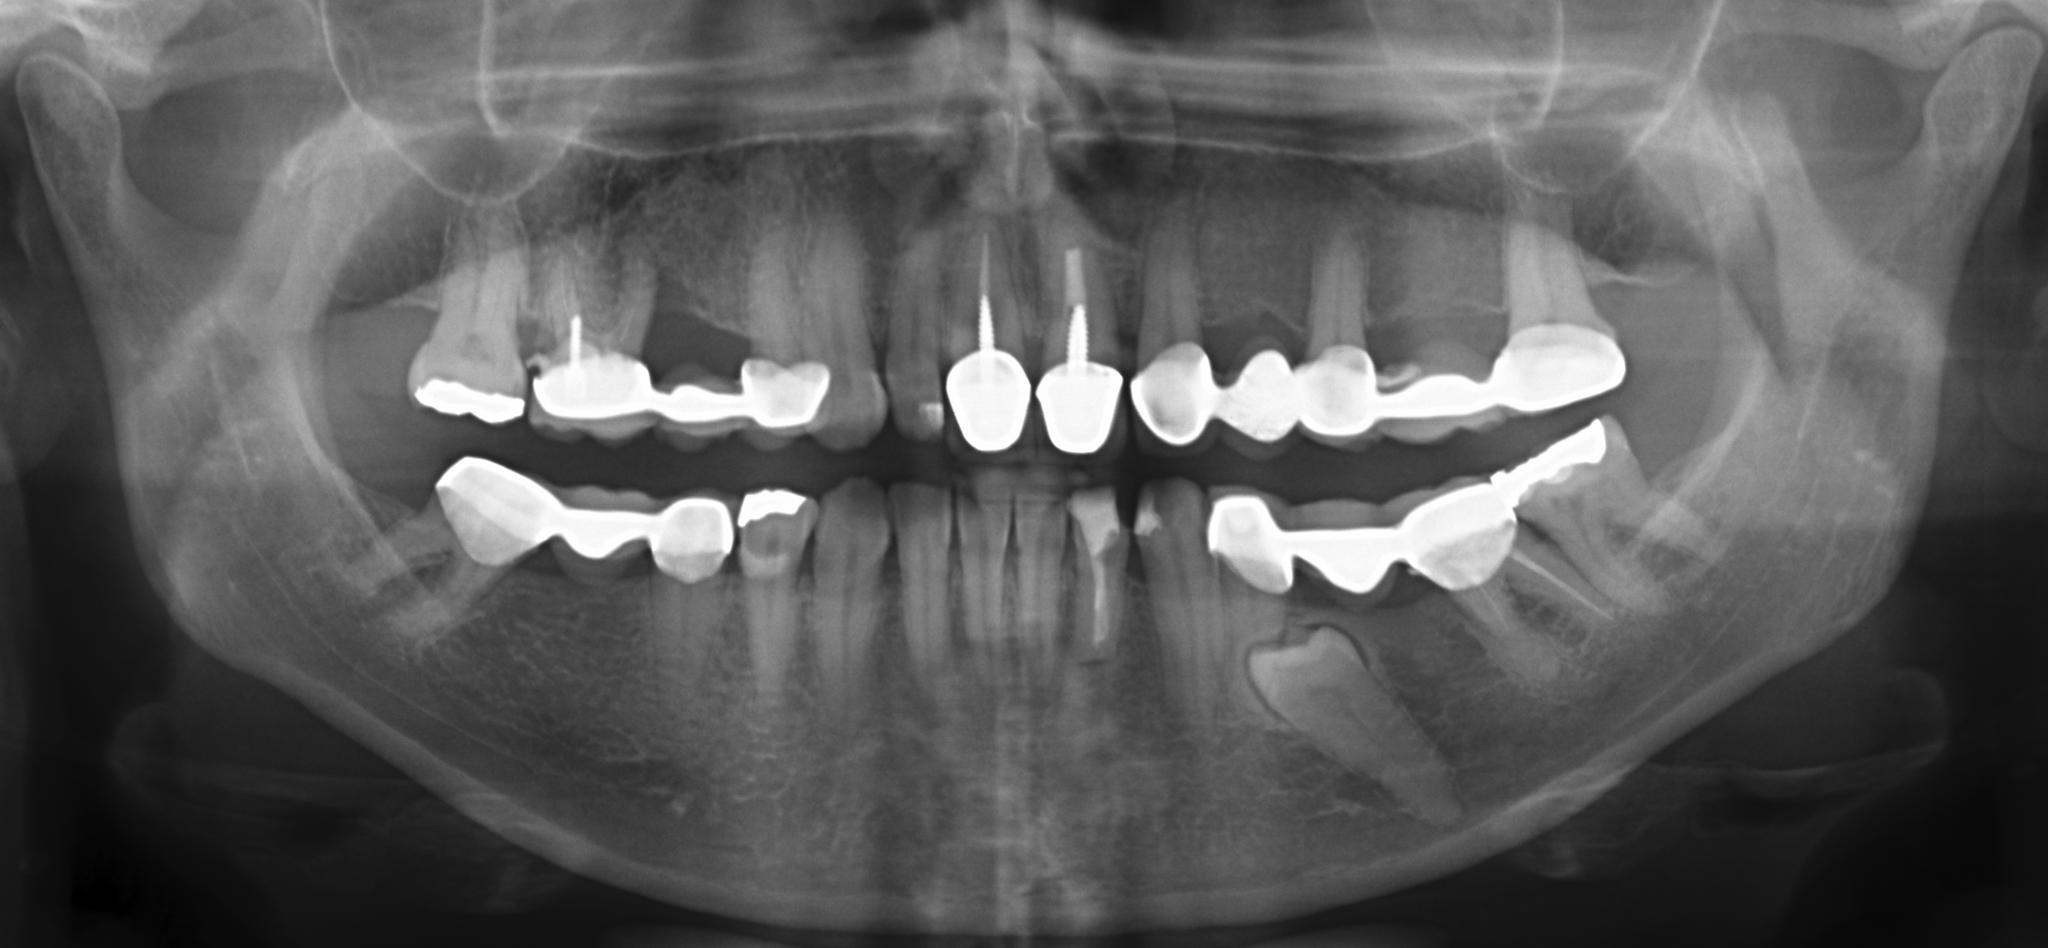Fillings: (1394, 471, 1600, 671), (384, 454, 559, 639), (1490, 189, 1627, 418), (406, 209, 533, 424), (737, 218, 831, 447), (645, 482, 739, 699), (1211, 219, 1300, 448), (1296, 210, 1378, 449), (1127, 230, 1215, 452), (1202, 486, 1298, 672), (734, 483, 812, 697), (550, 499, 647, 670), (654, 270, 743, 436)
Implant: (525, 214, 660, 434), (1031, 232, 1127, 458), (944, 218, 1033, 456), (1063, 478, 1138, 692)
